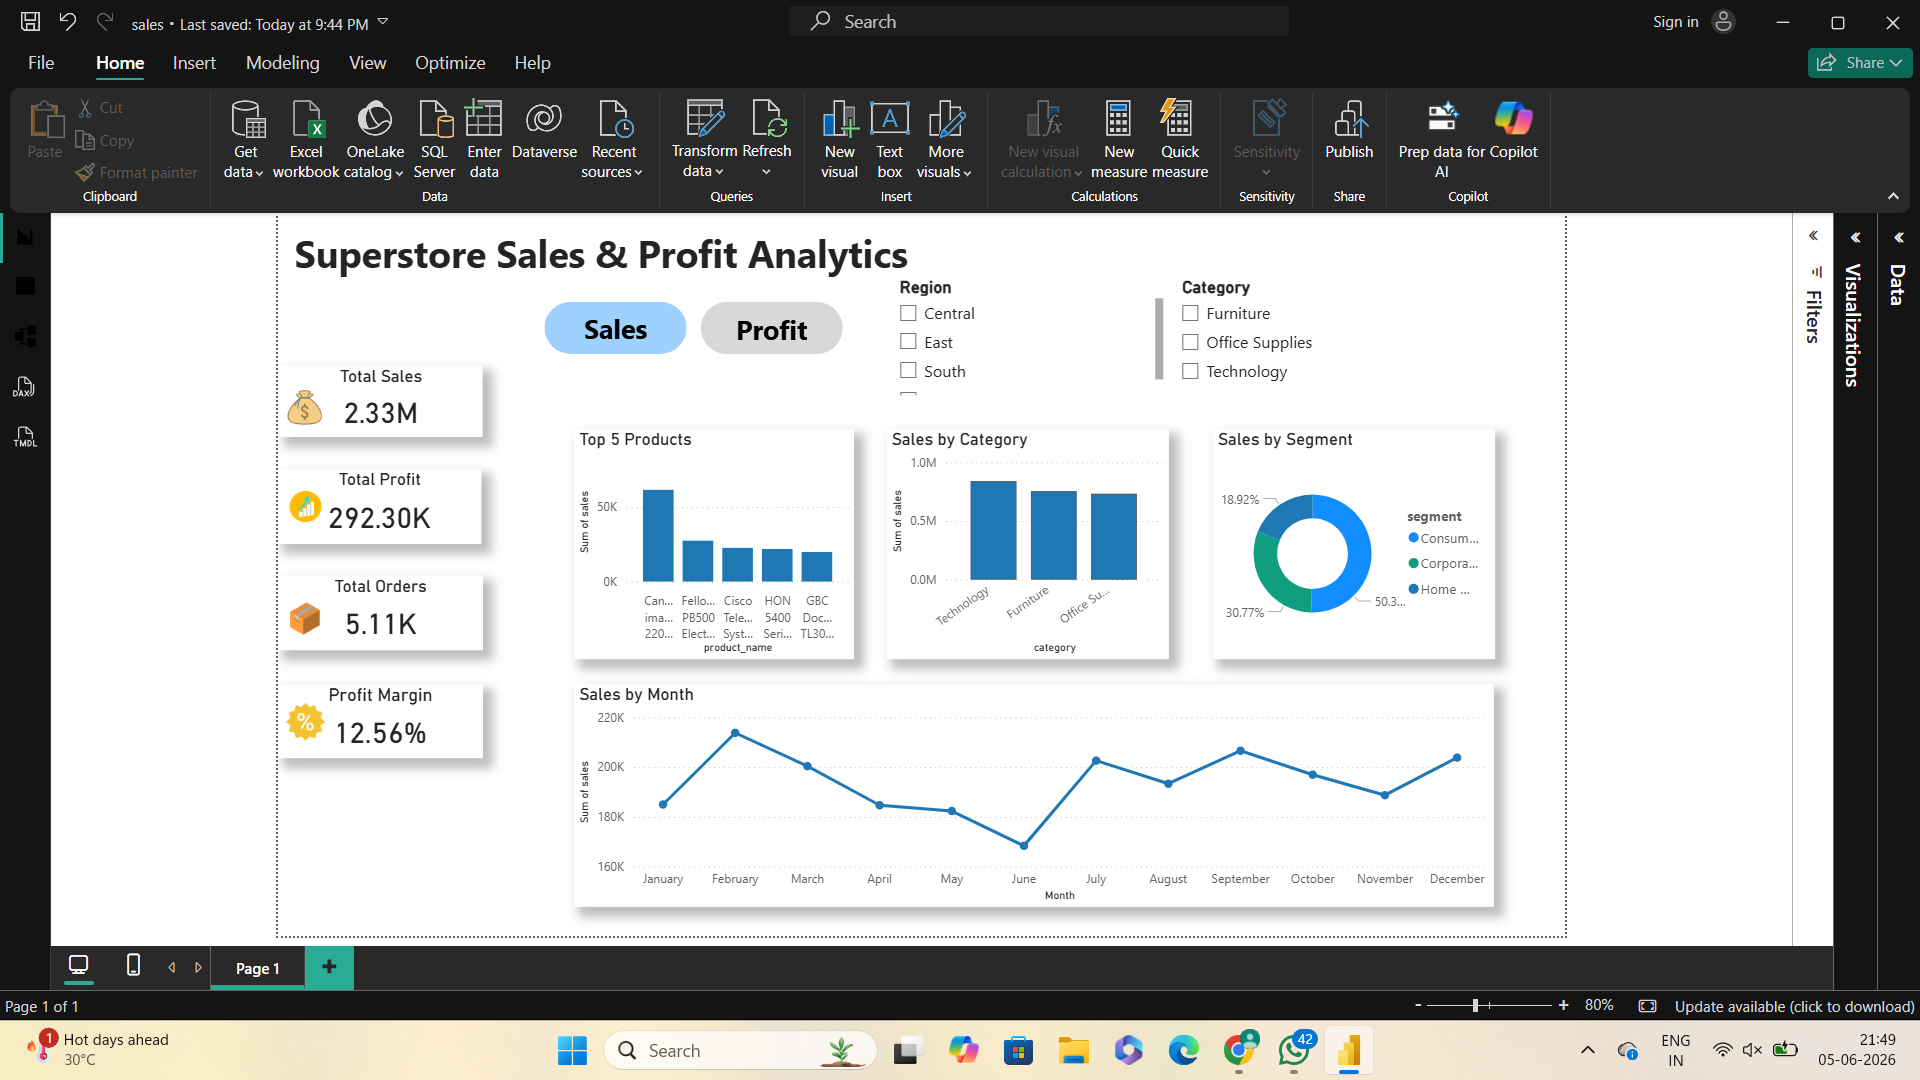

This screenshot's page, from the dashboard's own definition file:
{"tool":"powerbi","page":{"name":"Page 1","canvas":[1280,720],"ordinal":0},"visuals":[{"type":"card","title":"Total Sales","fields":{"Values":["Sum(sample_superstore.sales)"]},"box":[1.7,152.4,202.6,71],"z":0},{"type":"card","title":"Total Profit","fields":{"Values":["Sum(sample_superstore.profit)"]},"box":[0,254.5,202.6,74.5],"z":1000},{"type":"card","title":"Total Orders","fields":{"Values":["Count(sample_superstore.order_id)"]},"box":[0,360.2,204.3,74.5],"z":2000},{"type":"clusteredColumnChart","title":"Top 5 Products","fields":{"Category":["sample_superstore.product_name"],"Y":["Sum(sample_superstore.sales)"]},"box":[294.4,214.7,278.8,228.6],"z":5000},{"type":"textbox","box":[1.2,10,638.2,62.2],"z":7000},{"type":"donutChart","title":"Profit by Segment","fields":{"Category":["sample_superstore.segment"],"Y":["Sum(sample_superstore.profit)"]},"box":[931.6,214.7,278.8,228.6],"z":8000},{"type":"clusteredColumnChart","title":"Profit by Category","fields":{"Category":["sample_superstore.category"],"Y":["Sum(sample_superstore.profit)"]},"box":[606.1,211.3,280.5,228.6],"z":9000},{"type":"lineChart","title":"Profit by Month","fields":{"Category":["sample_superstore.order_date.Variation.Date Hierarchy.Month"],"Y":["Sum(sample_superstore.profit)"]},"box":[294.8,469,915.6,212.7],"z":10000},{"type":"actionButton","box":[264.9,88.3,142,51.9],"z":11000},{"type":"actionButton","box":[420.5,88.3,141.8,52.2],"z":12000},{"type":"slicer","fields":{"Values":["sample_superstore.region"]},"box":[606.1,58.9,280.5,128.1],"z":13000},{"type":"slicer","fields":{"Values":["sample_superstore.category"]},"box":[886.9,58.5,281.1,129.4],"z":14000},{"type":"card","title":"Profit Margin","fields":{"Values":["sample_superstore.Profit Margin %"]},"box":[0,469,204,73.4],"z":15000},{"type":"image","box":[6.2,175.4,41.1,36.1],"z":16000},{"type":"image","box":[0,383.1,53.5,41.1],"z":17000},{"type":"image","box":[6.2,276.2,42.3,32.3],"z":18000},{"type":"image","box":[6.2,483.9,42.3,44.8],"z":19000}]}

Visuals, with their boxes in screenshot pixels (x1, y1, x2, y2):
"Total Sales" card: (43, 155, 342, 260)
"Total Profit" card: (40, 306, 340, 417)
"Total Orders" card: (40, 463, 342, 573)
"Top 5 Products" clusteredColumnChart: (475, 248, 888, 586)
textbox: (42, 0, 986, 37)
"Profit by Segment" donutChart: (1418, 248, 1830, 586)
"Profit by Category" clusteredColumnChart: (937, 243, 1352, 581)
"Profit by Month" lineChart: (476, 624, 1830, 938)
actionButton: (432, 61, 642, 137)
actionButton: (662, 61, 872, 138)
slicer - sample_superstore.region: (937, 17, 1352, 207)
slicer - sample_superstore.category: (1352, 17, 1768, 208)
"Profit Margin" card: (40, 624, 342, 732)
image: (49, 189, 110, 243)
image: (40, 497, 119, 558)
image: (49, 339, 112, 386)
image: (49, 646, 112, 712)
